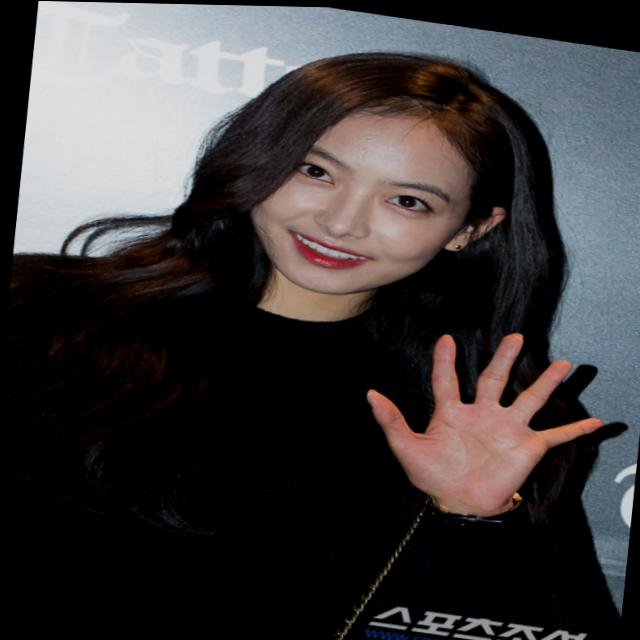face: (239, 86, 475, 306)
